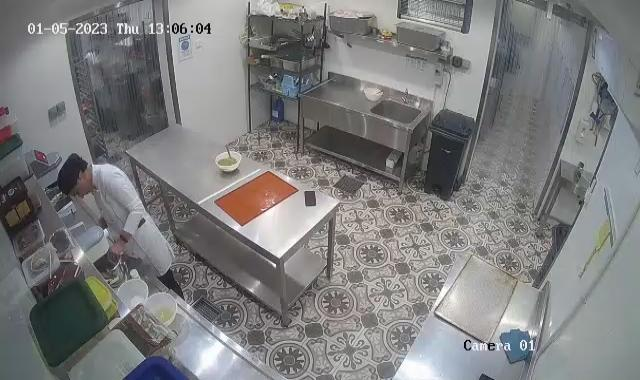no_hairnet: (58, 153, 90, 197)
